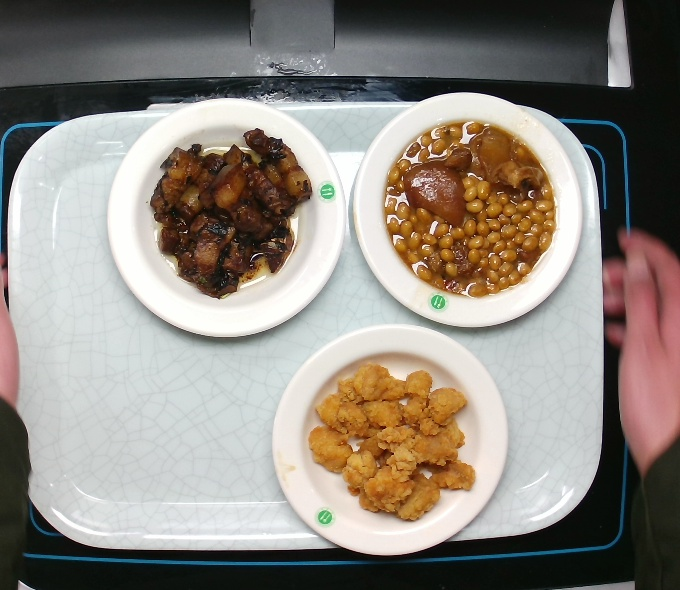wcq-GanCaiRou: (151, 126, 314, 301)
wcq-HuangDouZhuJiao: (379, 116, 563, 305)
wcq-JiMiHua: (305, 355, 482, 526)
